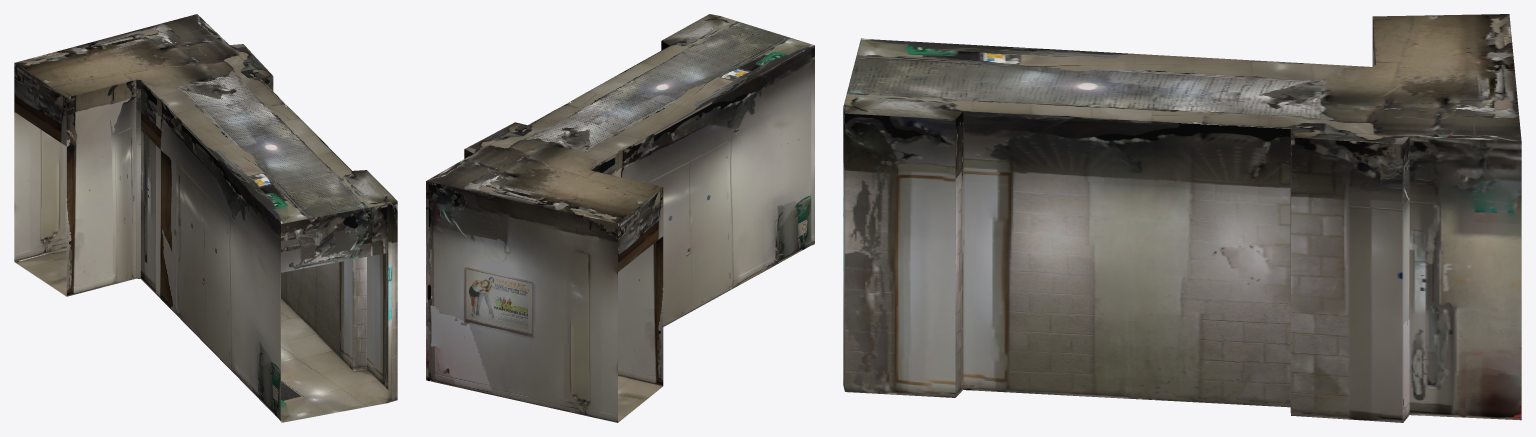
File: MLG_corr_3-IM.fbx
3 views of the same model, side by side, from view 1: azimuth 30°, elevation 25°; view 2: azimuth 150°, elevation 25°; view 3: azimuth 270°, elevation 25° (orthographic). The views are drawn at different scales.
Visible parts, largest first — view 1: LG-corr-3LP; view 2: LG-corr-3LP; view 3: LG-corr-3LP.
Part boxes in pixels (<box>): LG-corr-3LP: <box>14,14,397,422</box>; LG-corr-3LP: <box>426,14,814,422</box>; LG-corr-3LP: <box>843,14,1521,422</box>.
Size of the model in its own units: 314 by 312 by 689.
Materials: 1 (1 with a texture image).
